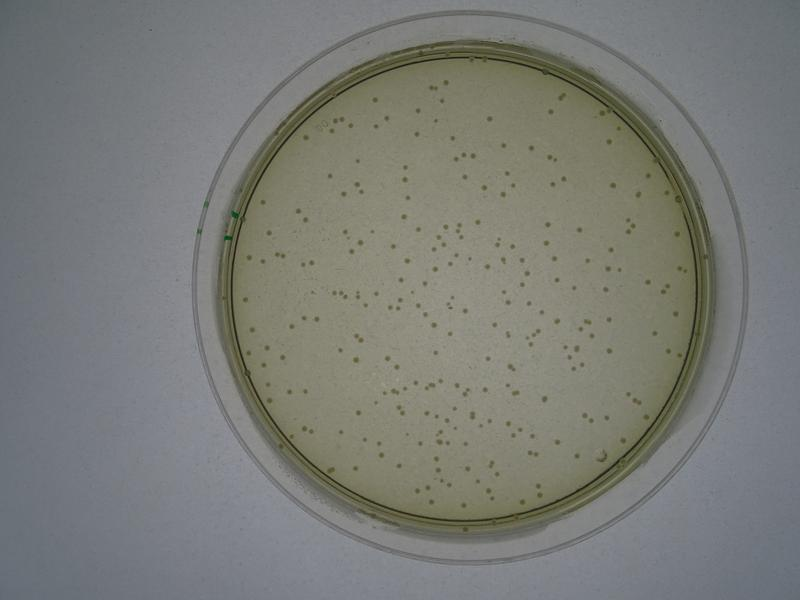colony: (353, 153, 364, 167), (538, 393, 550, 405), (485, 114, 498, 125), (262, 227, 274, 238), (482, 354, 493, 366), (604, 346, 617, 356), (553, 437, 565, 447), (604, 135, 613, 148), (574, 224, 584, 235), (402, 161, 412, 172), (430, 264, 440, 274), (258, 199, 268, 209), (354, 409, 364, 419), (608, 179, 617, 190), (336, 427, 346, 436), (287, 321, 295, 332), (474, 218, 482, 229), (300, 388, 309, 397), (527, 143, 536, 152), (351, 356, 359, 366), (399, 213, 409, 221), (346, 248, 356, 256), (325, 172, 333, 182), (240, 295, 249, 303), (446, 330, 454, 338), (459, 174, 469, 180), (553, 276, 560, 284), (414, 130, 420, 139), (260, 258, 267, 265)
